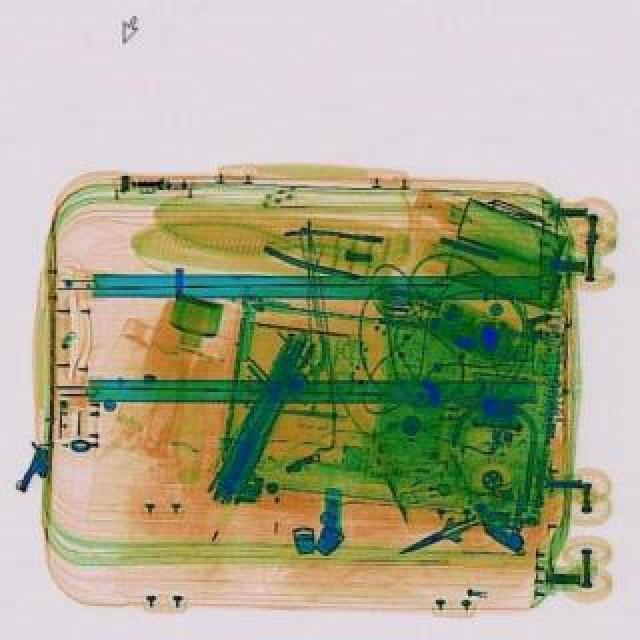knife: (390, 510, 482, 570)
